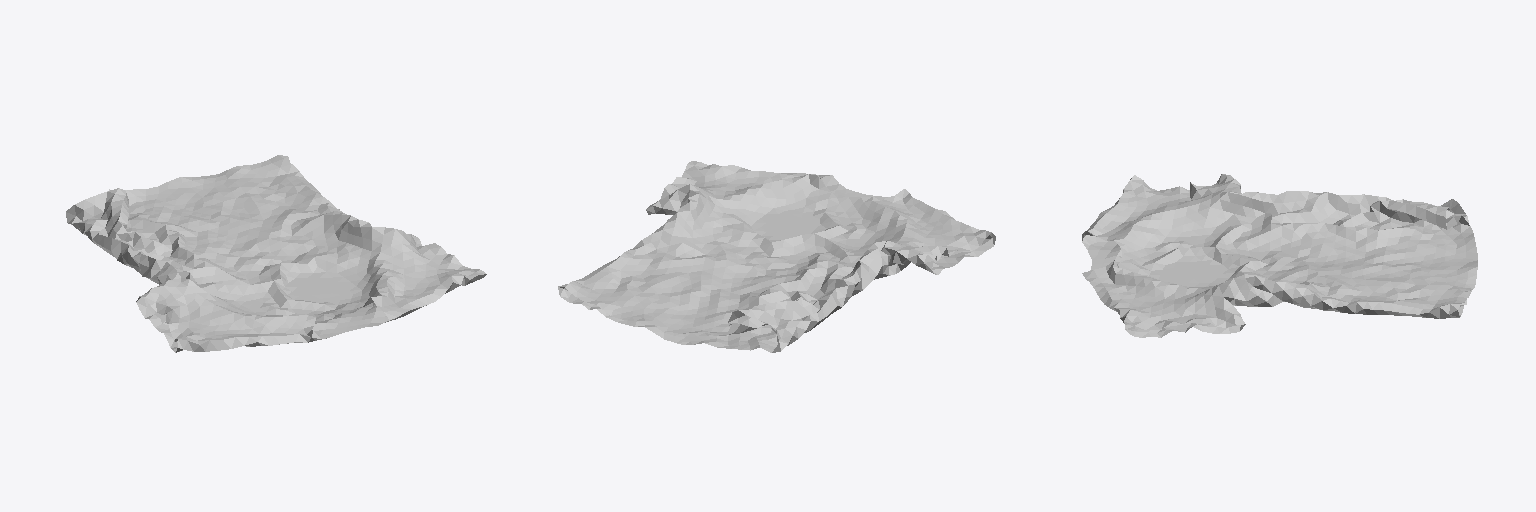
File: tshirt1900-flattened.obj
The picture shows the model from 3 angles: view 1: azimuth 30°, elevation 25°; view 2: azimuth 150°, elevation 25°; view 3: azimuth 270°, elevation 25°; orthographic projection.
Bounding box in the file's own units: 7.51 × 1.11 × 8.4.